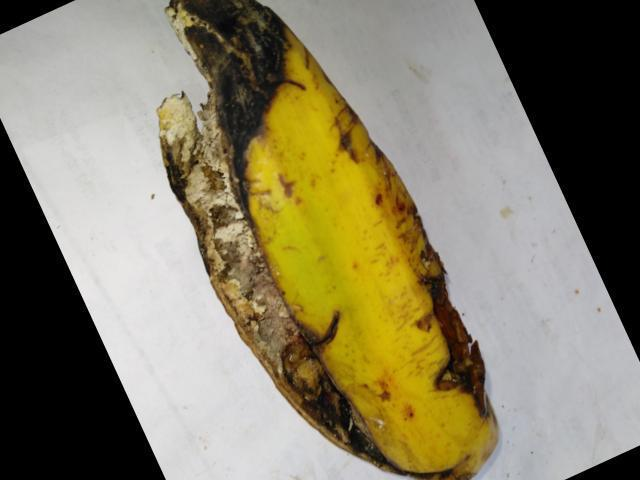rotten: (127, 0, 513, 479)
